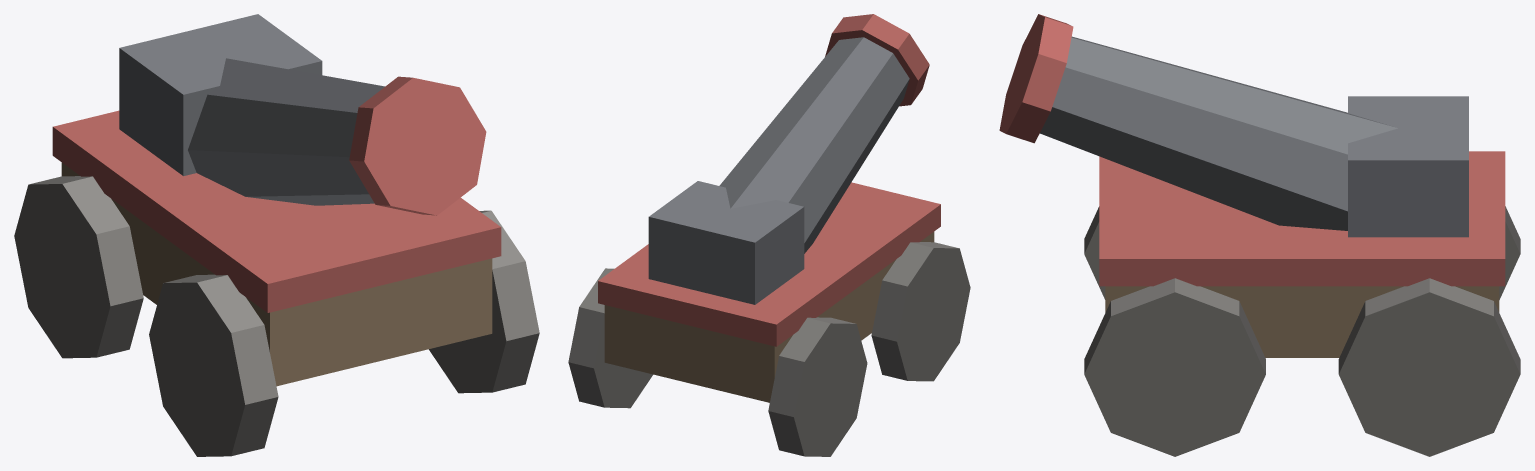
Rendered from minion_siege_red.glb.
3 views of the same model, side by side, from view 1: azimuth 30°, elevation 25°; view 2: azimuth 150°, elevation 25°; view 3: azimuth 270°, elevation 25° (orthographic). The views are drawn at different scales.
Bounding box in the file's own units: 1.06 × 1.35 × 1.72.
